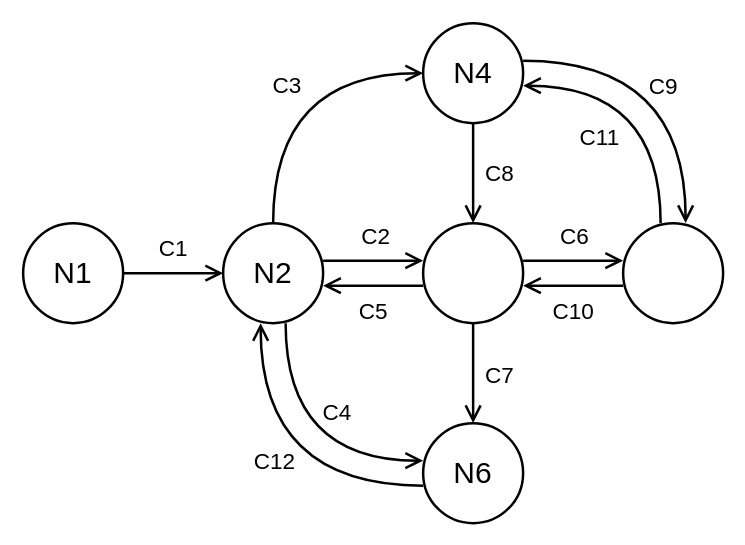
Some shapes in this 745 by 545 pixel diagram are drawn without their labels. Here are the shapes that lost their labels. From the top down, the centre of each, then its label:
[472,272]: N3
[672,272]: N5
